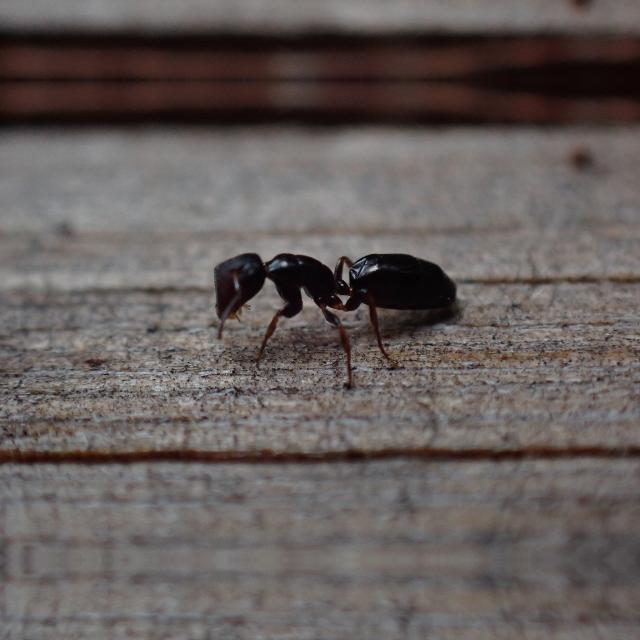Colobopsis: (182, 220, 468, 358)
